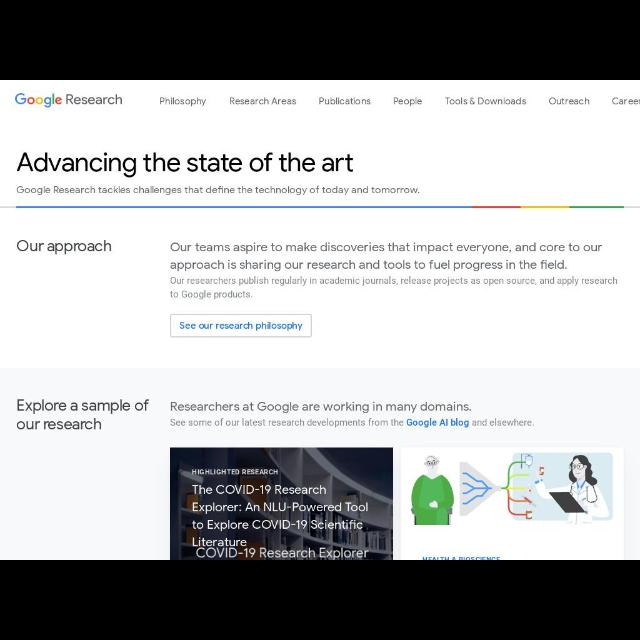image: (171, 448, 624, 558), (13, 91, 123, 109)
text: (170, 240, 620, 298), (169, 400, 539, 428), (190, 482, 370, 532), (15, 150, 357, 176), (16, 183, 420, 199), (14, 398, 150, 430), (195, 547, 378, 559), (15, 236, 114, 256), (190, 463, 280, 475), (445, 96, 527, 106), (156, 96, 207, 110), (229, 98, 297, 106), (186, 538, 248, 546), (319, 96, 371, 105), (550, 96, 590, 106), (609, 95, 639, 106), (393, 98, 423, 106)
textbutton: (170, 312, 312, 338)
toolbar: (0, 82, 638, 120)
